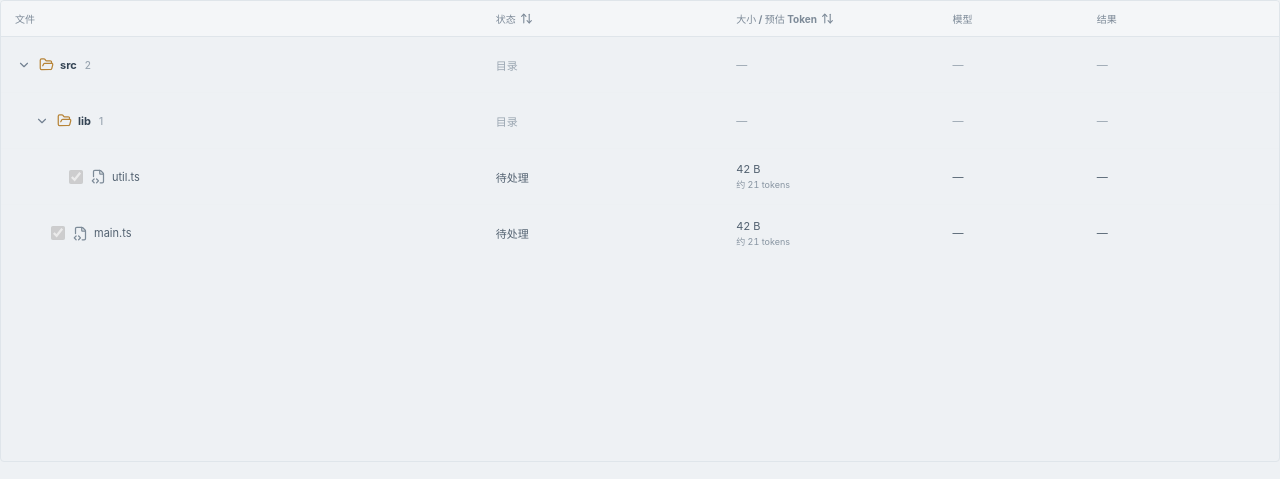
Test case: FileTreeTable › collapses a directory without losing its tree node
What coordinates should you click on to do the following:
click the button named "折叠 src"
I would click on:
 (24, 64)
Its box is [15,54,33,76].
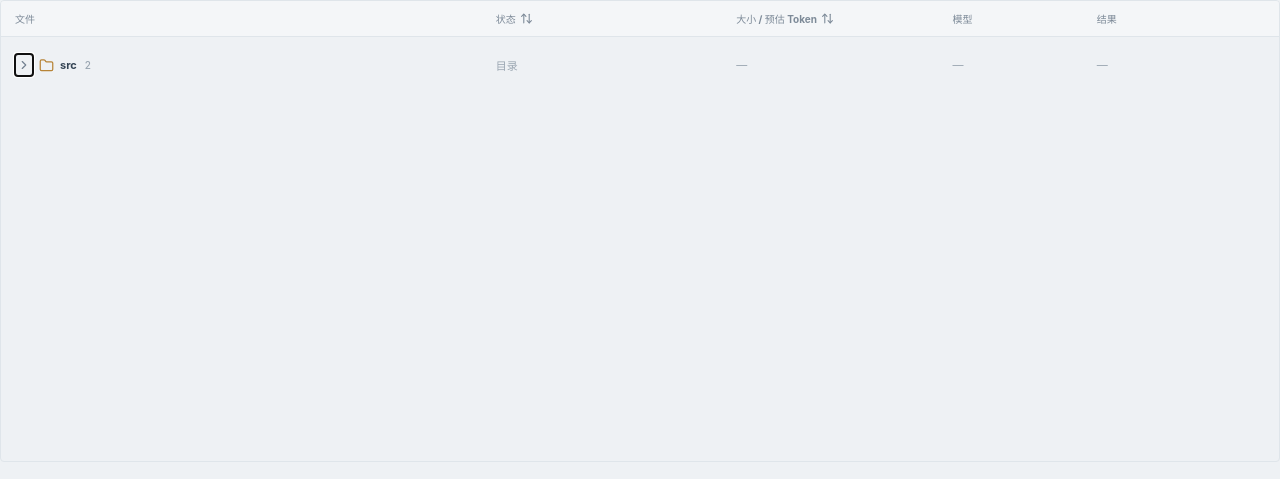
Expected: the text "main.ts" is gone
Expected: the text "lib" is gone
Expected: the button named "展开 src" is collapsed, [15,54,33,76]
